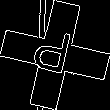P_S: (31, 27, 79, 83)
